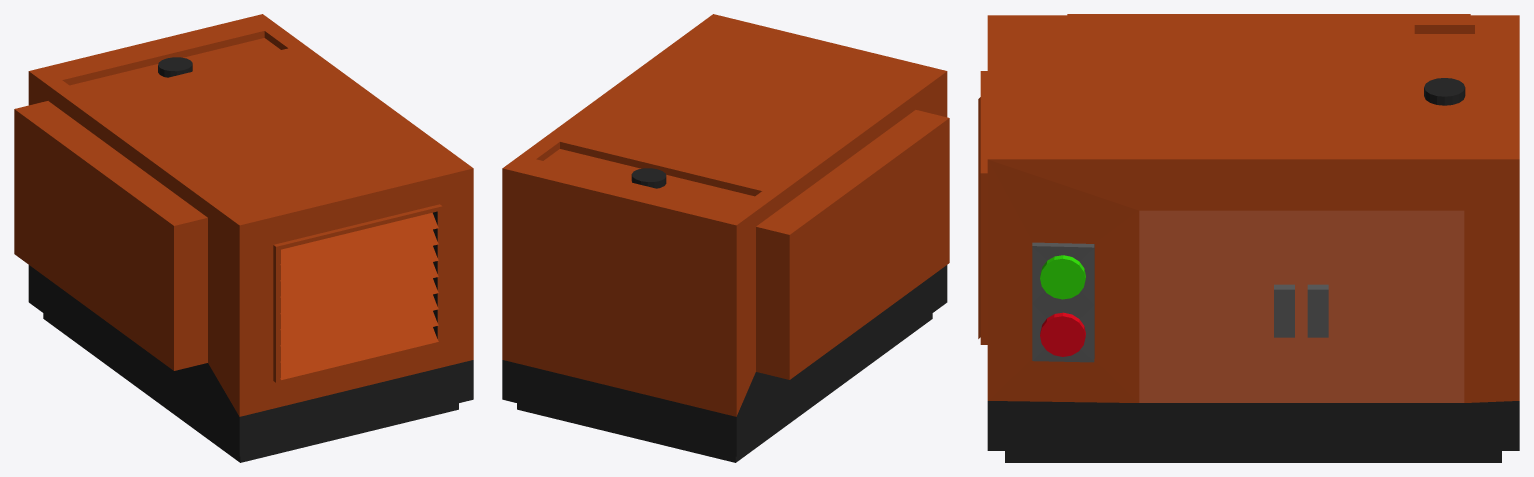
File: Generator.fbx
3 renders of one model, left to right at view 1: azimuth 30°, elevation 25°; view 2: azimuth 150°, elevation 25°; view 3: azimuth 270°, elevation 25°, orthographic. The views are drawn at different scales.
Parts seen in each view (by area): view 1: Cube, Plane; view 2: Cube; view 3: Cube, Plane.
Part boxes in pixels (<box>): Cube: <box>14,14,473,462</box>; Plane: <box>280,212,438,379</box>; Cube: <box>502,14,949,462</box>; Cube: <box>980,14,1519,462</box>; Plane: <box>978,97,980,338</box>.
Size of the model in its own units: 425 by 352 by 560.
